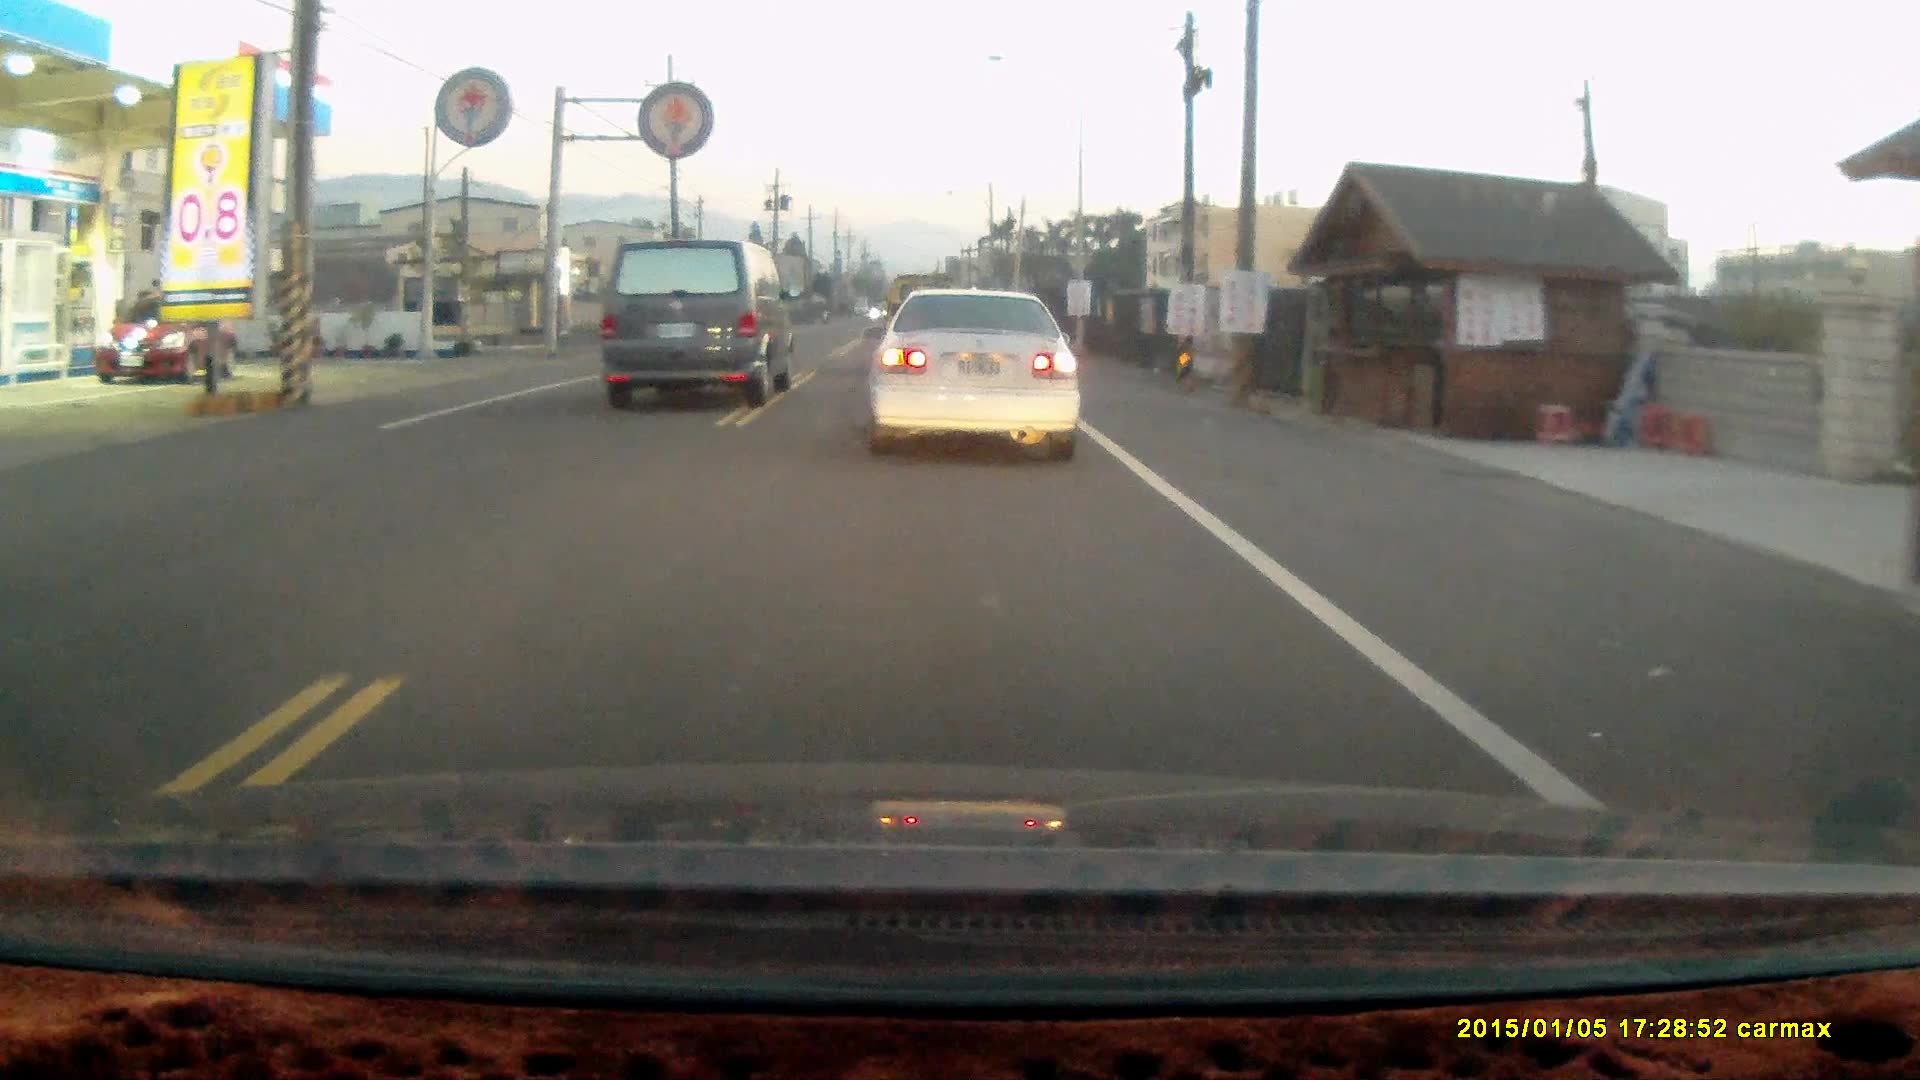vehicle: (862, 284, 1091, 465), (597, 237, 795, 405), (102, 293, 243, 389)
